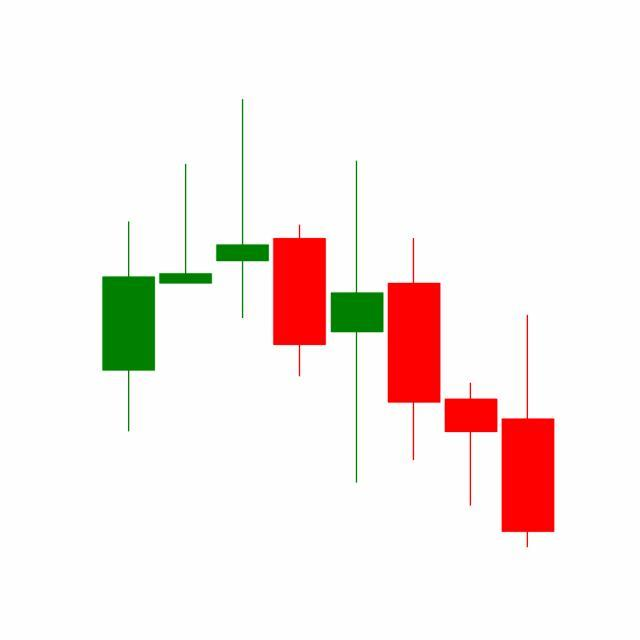Three Outside Up-Down: (328, 157, 500, 511)
